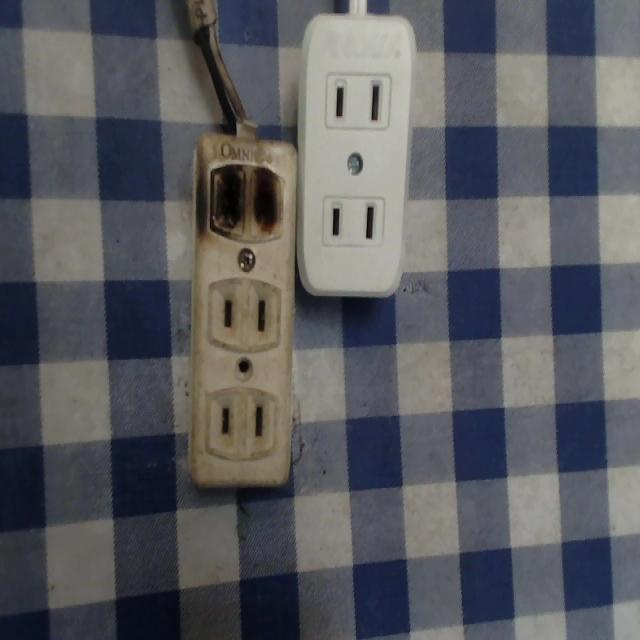-: (199, 156, 291, 243)
